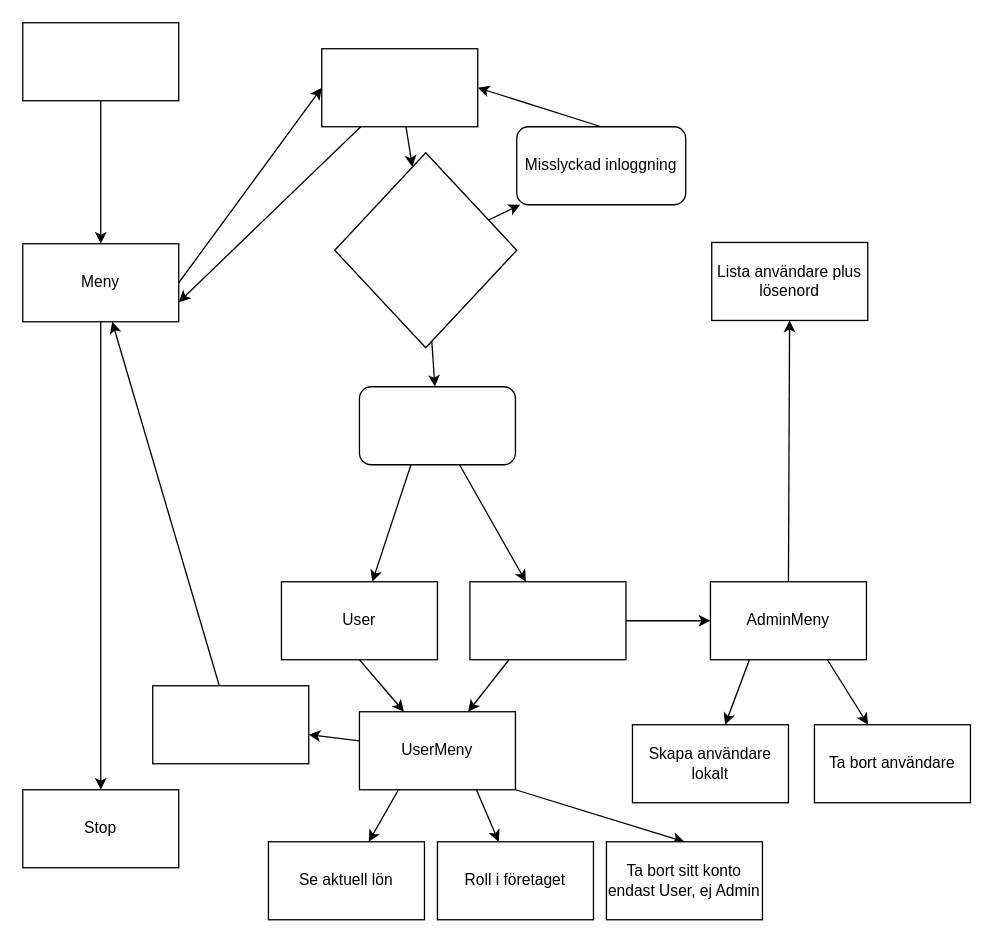
Some shapes in this 993 by 942 pixel diagram are drawn without their labels. The centre of each missing label's shape, as x and y in pixels:
Admin: point (547, 620)
Logga in med rätt användarnamn + lösenord: point (425, 249)
Logga ut: point (230, 724)
Login: point (399, 87)
Lyckad inloggning: point (436, 425)
Start: point (100, 61)
